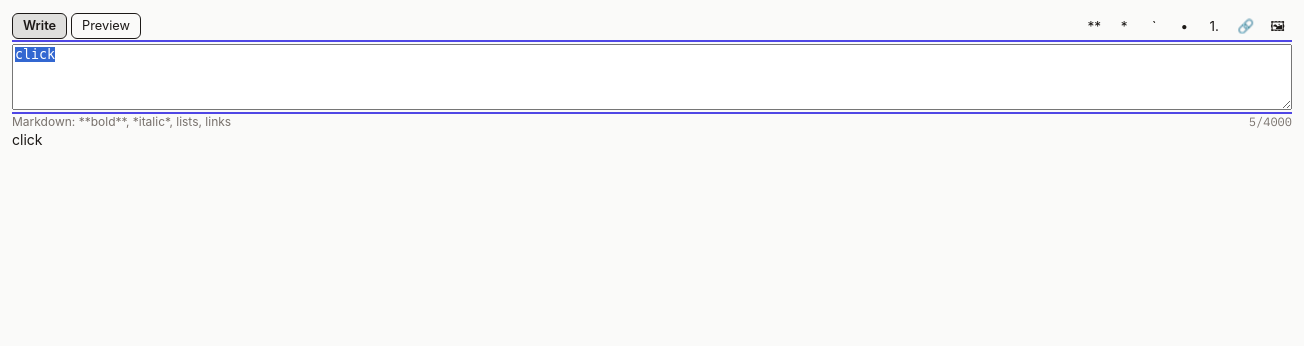
IssueMarkdownEditor link dialog › rejects unsafe URLs with an accessible error and keeps the dialog open
Click the button named "Link" at (1246, 26), box x1=1230 y1=12 x2=1261 y2=40
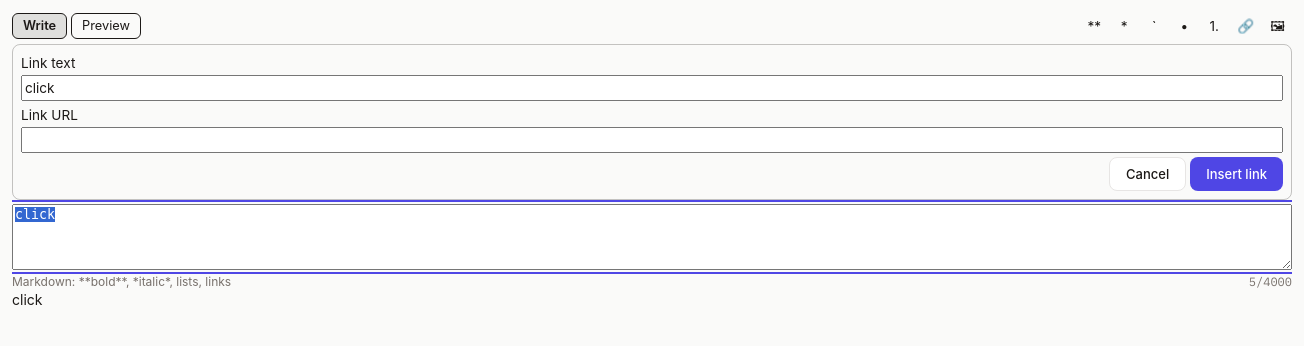
Type "javascript:alert(1)" into the field labelled "Link URL" at (652, 140), box x1=21 y1=127 x2=1283 y2=153
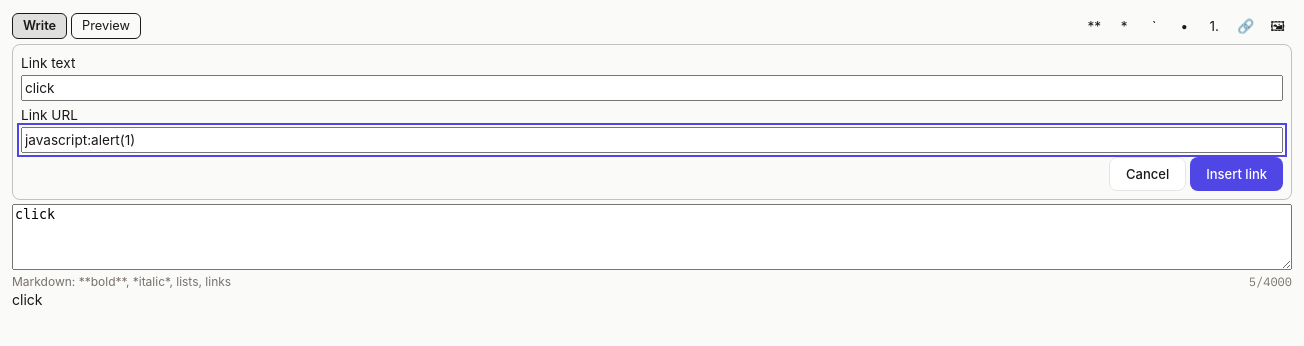
Click the button "Insert link" at (1237, 174), box x1=1190 y1=157 x2=1283 y2=191
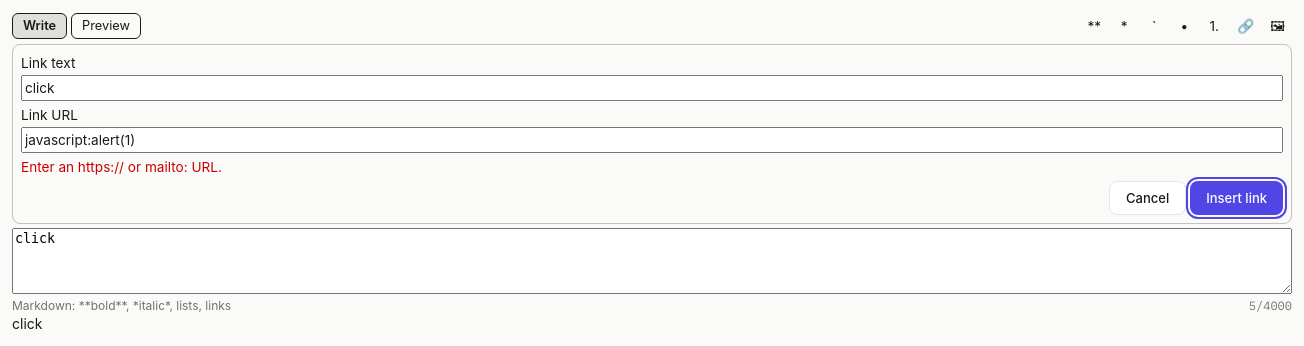
Check: the message shows "https://", box x1=21 y1=159 x2=222 y2=175
Click the button "Cancel" at (1148, 198), box x1=1109 y1=181 x2=1186 y2=215
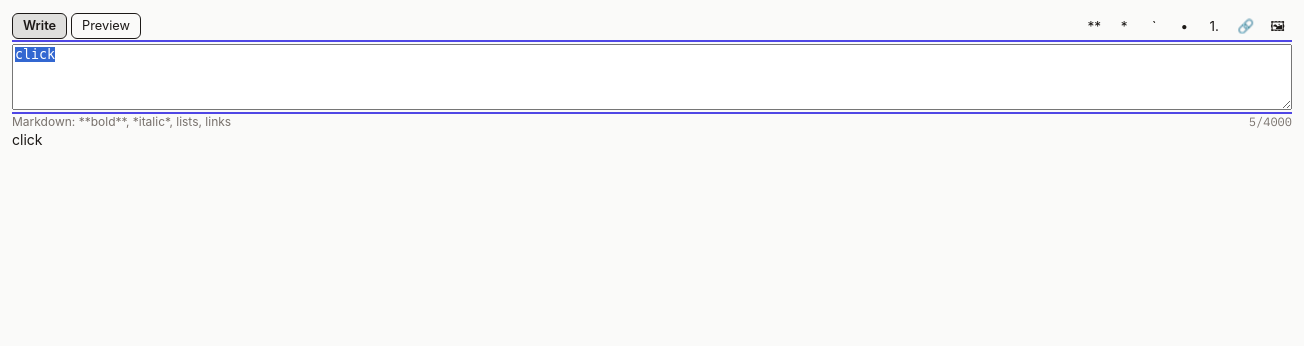
Check: the text labelled "Link URL" is gone
